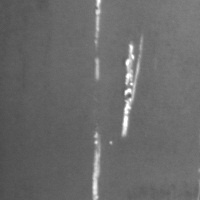scratches: (119, 41, 148, 139), (90, 0, 107, 81), (88, 129, 106, 199)
